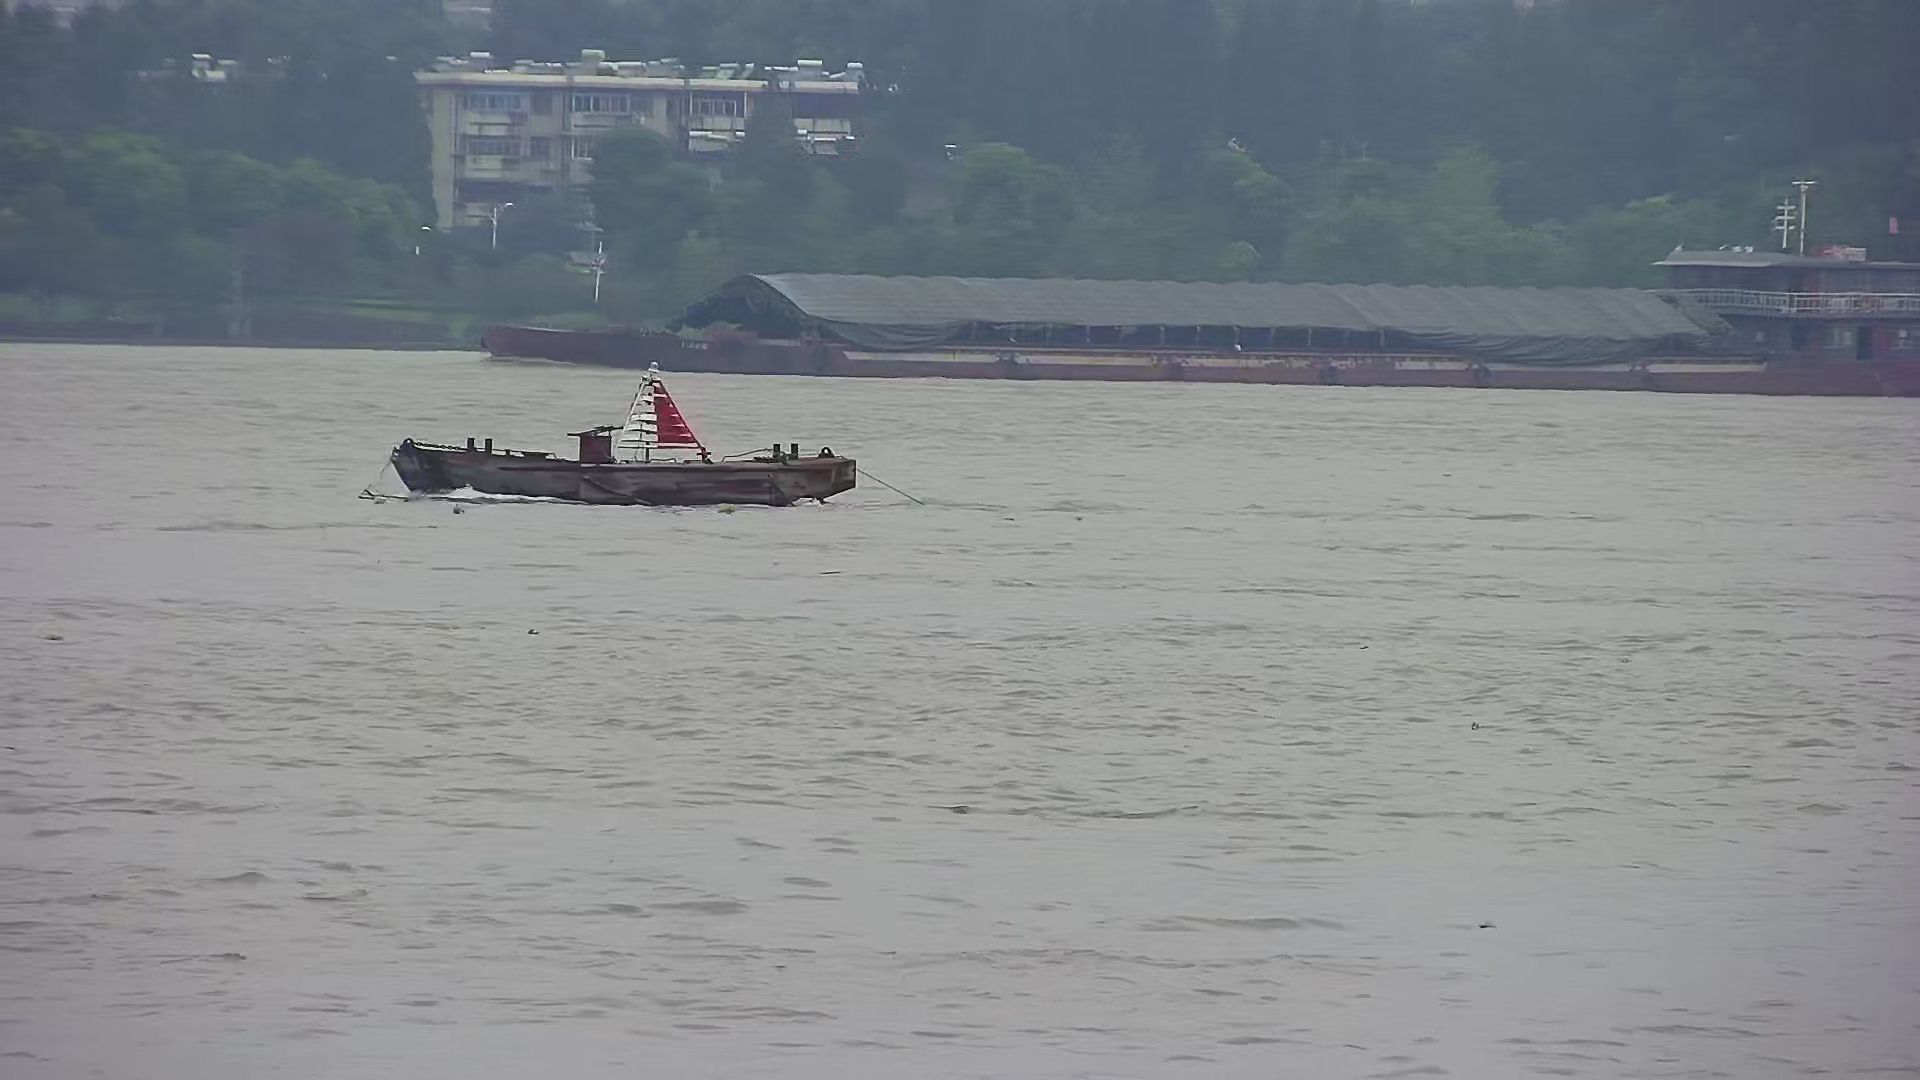boat: (382, 375, 862, 526)
ship: (473, 175, 1920, 411)
